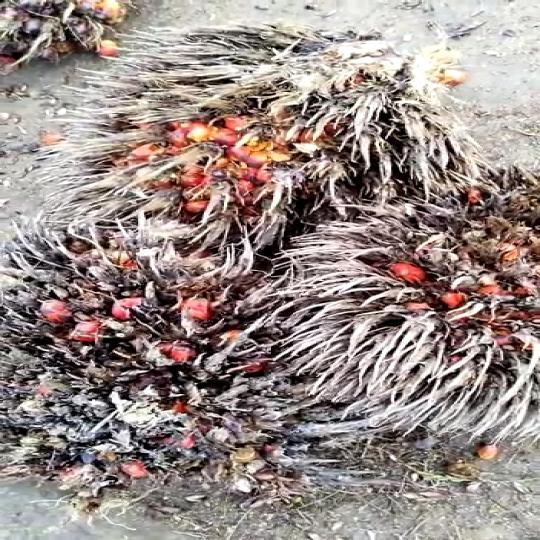terlalu masak: (253, 185, 540, 438), (104, 34, 450, 240), (0, 224, 282, 466)
